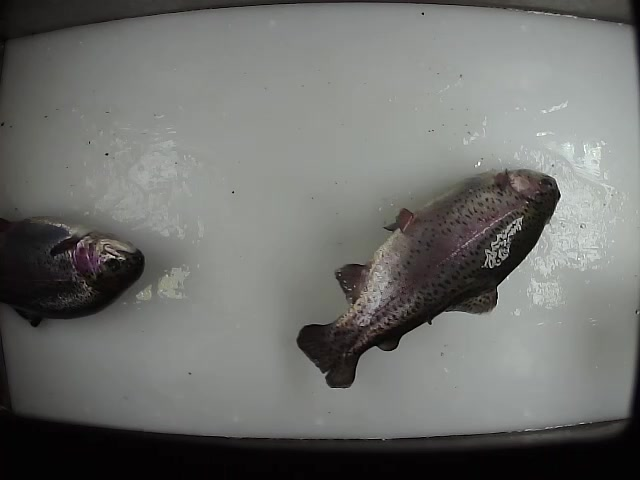fish: (295, 165, 562, 390), (1, 211, 148, 330)
